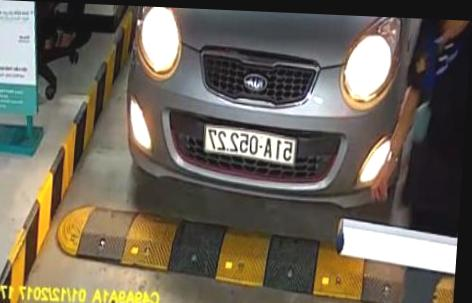License_Plate: (199, 126, 300, 166)
